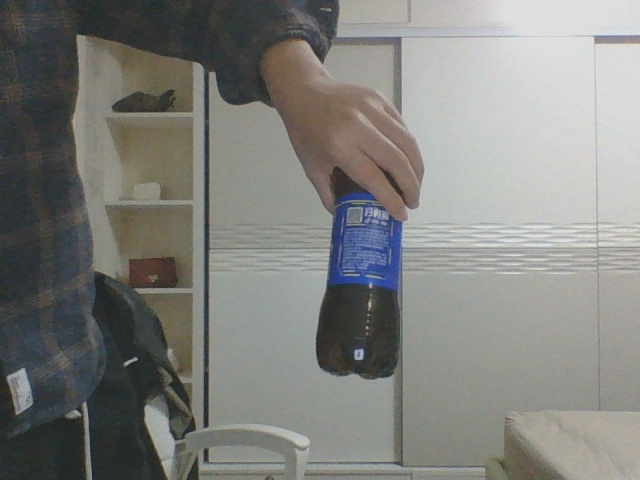Cola: (316, 166, 403, 378)
